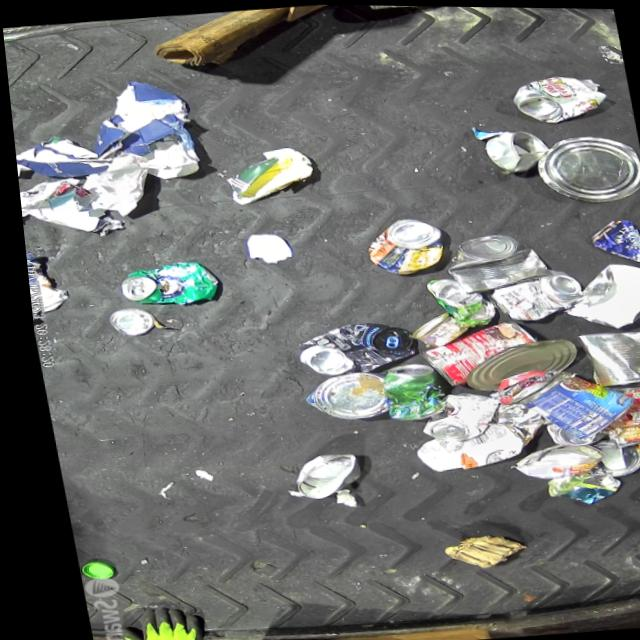can: (504, 360, 634, 440), (409, 315, 538, 387), (526, 127, 640, 205), (435, 226, 550, 295), (285, 316, 411, 378), (452, 334, 576, 391), (505, 68, 610, 124), (480, 264, 581, 321), (109, 256, 216, 308), (357, 213, 444, 276), (405, 385, 498, 441), (291, 367, 382, 422), (568, 324, 640, 386), (369, 357, 439, 418), (276, 449, 354, 500), (501, 437, 598, 478), (418, 273, 491, 326), (580, 213, 640, 271), (591, 377, 640, 446), (482, 125, 551, 173), (401, 307, 465, 347), (582, 434, 638, 475), (535, 416, 599, 445), (100, 305, 149, 336), (362, 4, 458, 10)
